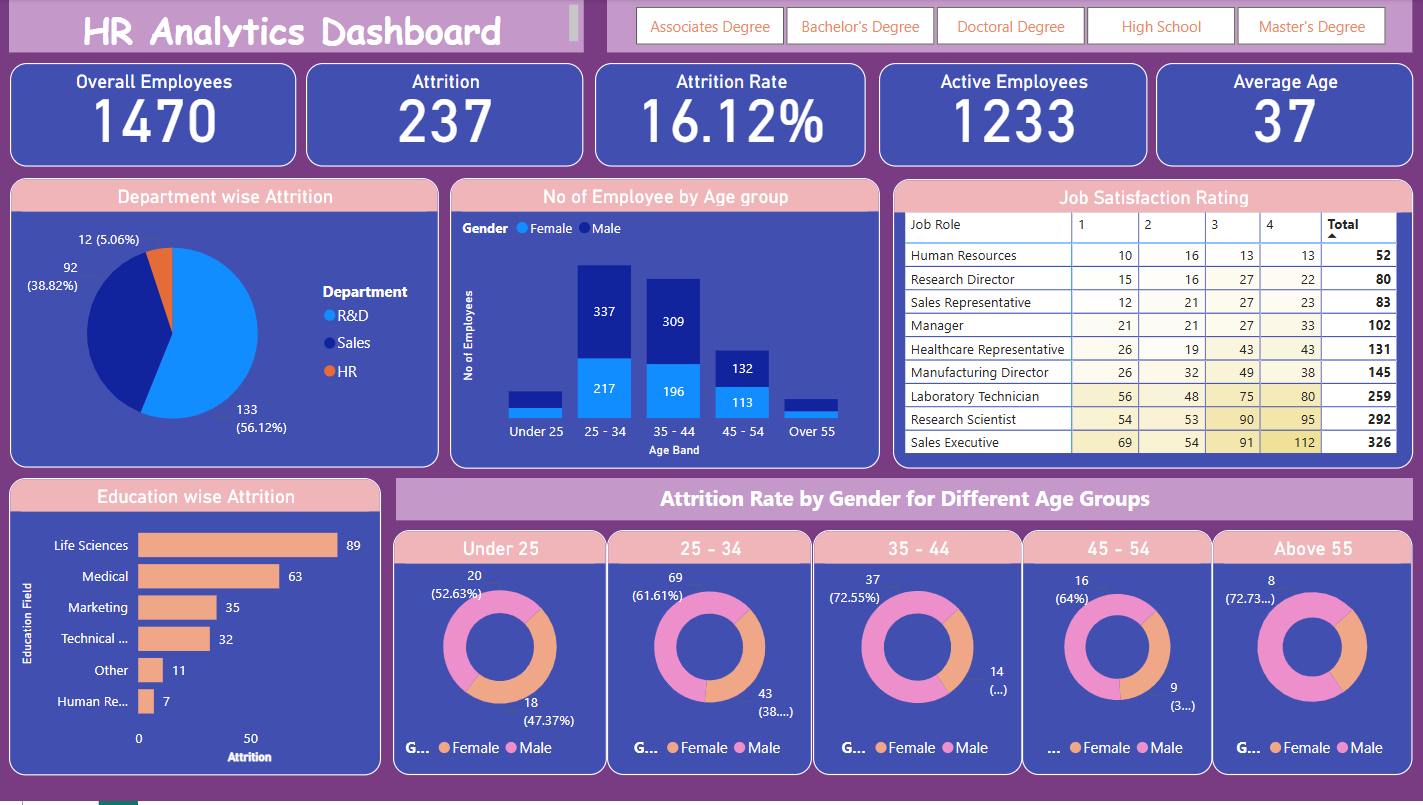

What the dashboard file says about the page in this screenshot:
{"tool":"powerbi","page":{"name":"Page 1","canvas":[1280,720],"ordinal":0},"visuals":[{"type":"card","title":"Overall Employees","fields":{"Values":["Sum(HR data.Employee Count)"]},"box":[11.5,57.3,256.8,92.6],"z":0},{"type":"card","title":"Attrition","fields":{"Values":["Sum(HR data.Attrition Count)"]},"box":[277.8,57.3,249.1,92.6],"z":1000},{"type":"card","title":"Attrition Rate","fields":{"Values":["HR data.Attrition Rate"]},"box":[536.4,57.3,243.4,92.6],"z":2000},{"type":"card","title":"Active Employees","fields":{"Values":["HR data.Active Employees"]},"box":[792.2,57.3,240.5,92.6],"z":3000},{"type":"card","title":"Average Age","fields":{"Values":["Avg(HR data.Age)"]},"box":[1040.4,57.3,231,92.6],"z":4000},{"type":"pieChart","title":"Department wise Attrition","fields":{"Category":["HR data.Department"],"Y":["Sum(HR data.Attrition Count)"]},"box":[11.5,160.4,384.7,259.6],"z":5000},{"type":"columnChart","title":"No of Employee by Age group","fields":{"Category":["HR data.CF_age band"],"Y":["Sum(HR data.Employee Count)"],"Series":["HR data.Gender"]},"box":[406.6,160.4,385.6,260.6],"z":6000},{"type":"pivotTable","title":"Job Satisfaction Rating","fields":{"Rows":["HR data.Job Role"],"Columns":["HR data.Job Satisfaction"],"Values":["Sum(HR data.Employee Count)"]},"box":[804.7,161.3,466.8,259.6],"z":7000},{"type":"barChart","title":"Education wise Attrition","fields":{"Category":["HR data.Education Field"],"Y":["Sum(HR data.Attrition Count)"]},"box":[10.9,429.9,333.9,267.3],"z":8000},{"type":"donutChart","title":"Under 25","fields":{"Category":["HR data.Gender"],"Y":["Sum(HR data.Attrition Count)"],"Series":["HR data.CF_age band"]},"box":[355.7,476.9,192.1,220.4],"z":9000},{"type":"donutChart","title":"25 - 34","fields":{"Category":["HR data.Gender"],"Y":["Sum(HR data.Attrition Count)"],"Series":["HR data.CF_age band"]},"box":[547.8,476.9,184.4,220.4],"z":10000},{"type":"donutChart","title":"35 - 44","fields":{"Category":["HR data.Gender"],"Y":["Sum(HR data.Attrition Count)"],"Series":["HR data.CF_age band"]},"box":[732.2,476.9,187.7,220.4],"z":11000},{"type":"donutChart","title":"45 - 54","fields":{"Category":["HR data.Gender"],"Y":["Sum(HR data.Attrition Count)"],"Series":["HR data.CF_age band"]},"box":[919.9,476.9,171.3,220.4],"z":12000},{"type":"donutChart","title":"Above 55","fields":{"Category":["HR data.Gender"],"Y":["Sum(HR data.Attrition Count)"],"Series":["HR data.CF_age band"]},"box":[1091.2,476.9,180.1,220.4],"z":13000},{"type":"textbox","box":[357.9,429.9,913.4,38.2],"z":14000},{"type":"textbox","box":[10.9,0,516.1,48],"z":15000},{"type":"slicer","fields":{"Values":["HR data.Education"]},"box":[547.8,0,723.5,48],"z":16000}]}

Visuals, with their boxes in screenshot pixels (x1, y1, x2, y2), scaled from the page's 1280x720 canvas onto the 1423x805 screenshot:
"Overall Employees" card: l=13, t=64, r=298, b=168
"Attrition" card: l=309, t=64, r=586, b=168
"Attrition Rate" card: l=596, t=64, r=867, b=168
"Active Employees" card: l=881, t=64, r=1148, b=168
"Average Age" card: l=1157, t=64, r=1413, b=168
"Department wise Attrition" pieChart: l=13, t=179, r=440, b=470
"No of Employee by Age group" columnChart: l=452, t=179, r=881, b=471
"Job Satisfaction Rating" pivotTable: l=895, t=180, r=1414, b=471
"Education wise Attrition" barChart: l=12, t=481, r=383, b=780
"Under 25" donutChart: l=395, t=533, r=609, b=780
"25 - 34" donutChart: l=609, t=533, r=814, b=780
"35 - 44" donutChart: l=814, t=533, r=1023, b=780
"45 - 54" donutChart: l=1023, t=533, r=1213, b=780
"Above 55" donutChart: l=1213, t=533, r=1413, b=780
textbox: l=398, t=481, r=1413, b=523
textbox: l=12, t=0, r=586, b=54
slicer - HR data.Education: l=609, t=0, r=1413, b=54
